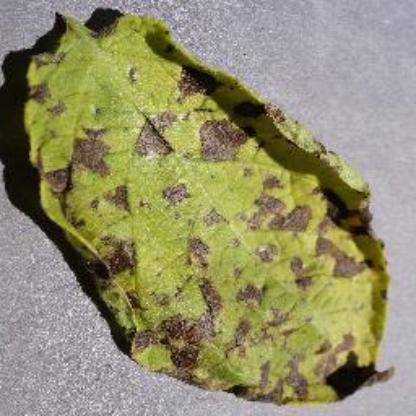Early-Blight: (14, 10, 396, 404)
